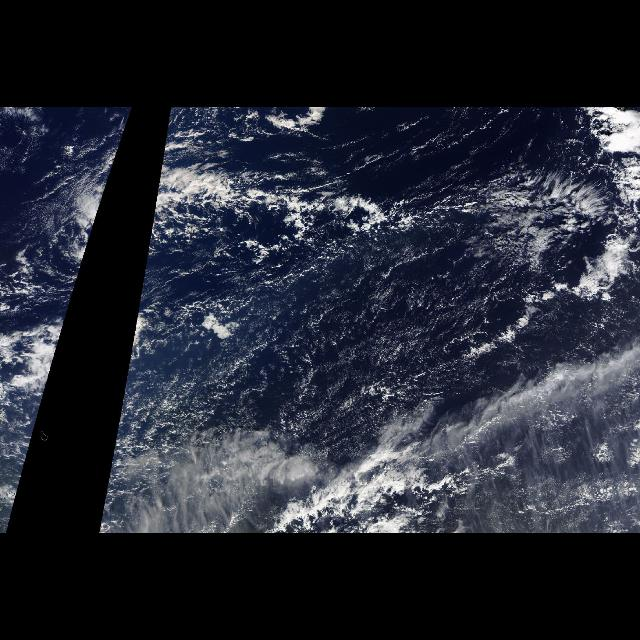Fish: (148, 146, 428, 250), (50, 146, 120, 250)
Gravel: (247, 266, 475, 404)
Sugar: (130, 233, 580, 451)
